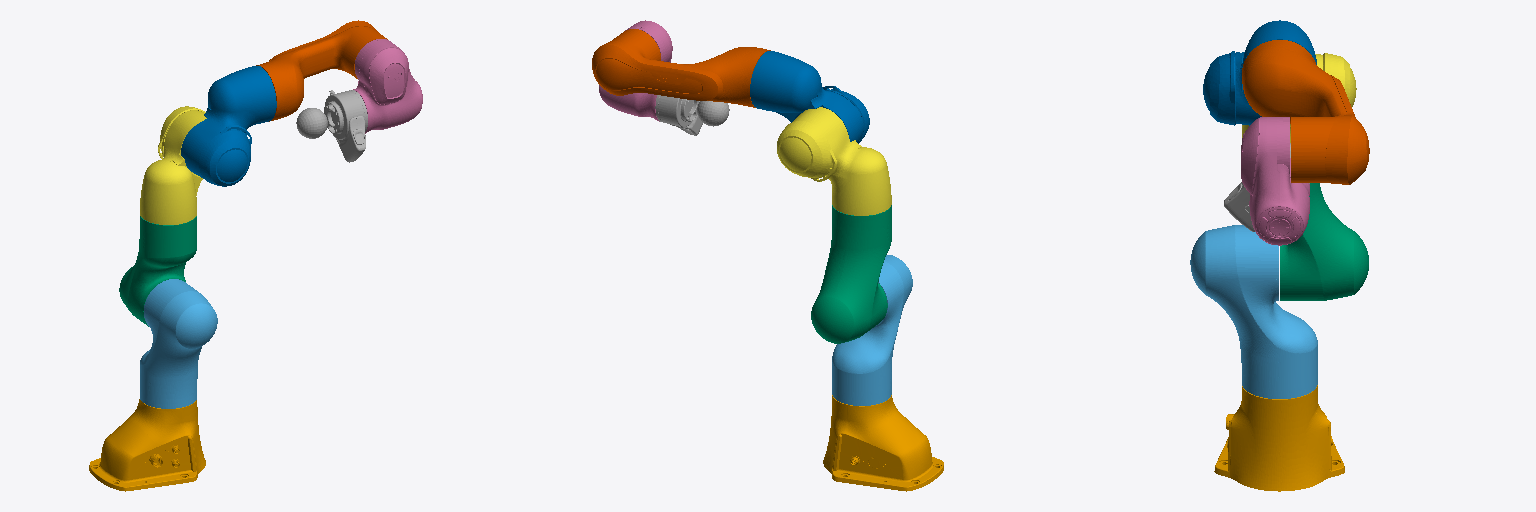
robot.urdf — panda:
<?xml version='1.0' encoding='utf-8'?>
<robot name="panda">

    <link name="link0">
      <inertial>
        <origin xyz="0 0 0.05" rpy="0 0 0" />
        <mass value="4" />
        <inertia ixx="0.4" iyy="0.4" izz="0.4" ixy="0" ixz="0" iyz="0" />
      </inertial>
      <visual>
        <geometry>
          <mesh filename="meshes/visual/link0.obj"/>
        </geometry>
      </visual>
<!--       <collision>
        <geometry>
          <mesh filename="meshes/collision/link0.obj"/>
        </geometry>
      </collision> -->
    </link>
    <link name="link1">
      <inertial>
        <origin xyz="0 0 -0.07" rpy="0 -0 0" />
        <mass value="4" />
        <inertia ixx="0.3" iyy="0.3" izz="0.3" ixy="0" ixz="0" iyz="0" />
      </inertial>
      <visual>
        <geometry>
          <mesh filename="meshes/visual/link1.obj"/>
        </geometry>
      </visual>
      <!-- <collision>
        <geometry>
          <mesh filename="meshes/collision/link1.obj"/>
        </geometry>
      </collision> -->
    </link>
    <link name="link2">
      <inertial>
        <origin xyz="0 -0.1 0" rpy="0 -0 0" />
        <mass value="3" />
        <inertia ixx="0.3" iyy="0.3" izz="0.3" ixy="0" ixz="0" iyz="0" />
      </inertial>
      <visual>
        <geometry>
          <mesh filename="meshes/visual/link2.obj"/>
        </geometry>
      </visual>
      <!-- <collision>
        <geometry>
          <mesh filename="meshes/collision/link2.obj"/>
        </geometry>
      </collision> -->
    </link>
    <link name="link3">
      <inertial>
        <origin xyz="0.04 0 -0.05" rpy="0 -0 0" />
        <mass value="3" />
        <inertia ixx="0.2" iyy="0.2" izz="0.2" ixy="0" ixz="0" iyz="0" />
      </inertial>
      <visual>
        <geometry>
          <mesh filename="meshes/visual/link3.obj"/>
        </geometry>
      </visual>
      <!-- <collision>
        <geometry>
          <mesh filename="meshes/collision/link3.obj"/>
        </geometry>
      </collision> -->
    </link>
    <link name="link4">
      <inertial>
        <origin xyz="-0.04 0.05 0" rpy="0 -0 0" />
        <mass value="3" />
        <inertia ixx="0.2" iyy="0.2" izz="0.2" ixy="0" ixz="0" iyz="0" />
      </inertial>
      <visual>
        <geometry>
          <mesh filename="meshes/visual/link4.obj"/>
        </geometry>
      </visual>
<!--       <collision>
        <geometry>
          <mesh filename="meshes/collision/link4.obj"/>
        </geometry>
      </collision> -->
    </link>
    <link name="link5">
      <inertial>
        <origin xyz="0 0 -0.15" rpy="0 -0 0" />
        <mass value="3" />
        <inertia ixx="0.2" iyy="0.2" izz="0.2" ixy="0" ixz="0" iyz="0" />
      </inertial>
      <visual>
        <geometry>
          <mesh filename="meshes/visual/link5.obj"/>
        </geometry>
      </visual>
<!--       <collision>
        <geometry>
          <mesh filename="meshes/collision/link5.obj"/>
        </geometry>
      </collision> -->
    </link>
    <link name="link6">
      <inertial>
        <origin xyz="0.06 0 0" rpy="0 -0 0" />
        <mass value="2" />
        <inertia ixx="0.1" iyy="0.1" izz="0.1" ixy="0" ixz="0" iyz="0" />
      </inertial>
      <visual>
        <geometry>
          <mesh filename="meshes/visual/link6.obj"/>
        </geometry>
      </visual>
      <!-- <collision>
        <geometry>
          <mesh filename="meshes/collision/link6.obj"/>
        </geometry>
      </collision> -->
    </link>
    <link name="link7">
      <inertial>
        <origin xyz="0 0 0.1" rpy="0 -0 0" />
        <mass value="1.0" />
        <inertia ixx="0.1" iyy="0.1" izz="0.25" ixy="0" ixz="0" iyz="0" />
      </inertial>
      <visual>
        <geometry>
          <mesh filename="meshes/visual/link7.obj"/>
        </geometry>
      </visual>
      <visual>
        <origin xyz="0 0 0.15" rpy="0 -0 0" />
        <geometry>
          <sphere radius="0.03"/>
        </geometry>
      </visual>
      <!-- <collision>
        <geometry>
          <mesh filename="meshes/collision/link7.obj"/>
        </geometry>
      </collision> -->
    </link>
    <joint name="joint1" type="revolute">
      <safety_controller k_position="100.0" k_velocity="40.0" soft_lower_limit="-2.8973" soft_upper_limit="2.8973"/>
      <origin rpy="0 0 0" xyz="0 0 0.333"/>
      <parent link="link0"/>
      <child link="link1"/>
      <axis xyz="0 0 1"/>
      <limit effort="87" lower="-2.8973" upper="2.8973" velocity="2.1750"/>
    </joint>
    <joint name="joint2" type="revolute">
      <safety_controller k_position="100.0" k_velocity="40.0" soft_lower_limit="-1.7628" soft_upper_limit="1.7628"/>
      <origin rpy="-1.57079632679 0 0" xyz="0 0 0"/>
      <parent link="link1"/>
      <child link="link2"/>
      <axis xyz="0 0 1"/>
      <calibration falling="-45.0" />
      <limit effort="87" lower="-1.7628" upper="1.7628" velocity="2.1750"/>
    </joint>
    <joint name="joint3" type="revolute">
      <safety_controller k_position="100.0" k_velocity="40.0" soft_lower_limit="-2.8973" soft_upper_limit="2.8973"/>
      <origin rpy="1.57079632679 0 0" xyz="0 -0.316 0"/>
      <parent link="link2"/>
      <child link="link3"/>
      <axis xyz="0 0 1"/>
      <limit effort="87" lower="-2.8973" upper="2.8973" velocity="2.1750"/>
    </joint>
    <joint name="joint4" type="revolute">
      <safety_controller k_position="100.0" k_velocity="40.0" soft_lower_limit="-3.0718" soft_upper_limit="-0.0698"/>
      <origin rpy="1.57079632679 0 0" xyz="0.0825 0 0"/>
      <parent link="link3"/>
      <child link="link4"/>
      <axis xyz="0 0 1"/>
      <calibration falling="-125.0" />
      <limit effort="87" lower="-3.0718" upper="-0.0698" velocity="2.1750"/>
    </joint>
    <joint name="joint5" type="revolute">
      <safety_controller k_position="100.0" k_velocity="40.0" soft_lower_limit="-2.8973" soft_upper_limit="2.8973"/>
      <origin rpy="-1.57079632679 0 0" xyz="-0.0825 0.384 0"/>
      <parent link="link4"/>
      <child link="link5"/>
      <axis xyz="0 0 1"/>
      <limit effort="12" lower="-2.8973" upper="2.8973" velocity="2.6100"/>
    </joint>
    <joint name="joint6" type="revolute">
      <safety_controller k_position="100.0" k_velocity="40.0" soft_lower_limit="-0.0175" soft_upper_limit="3.7525"/>
      <origin rpy="1.57079632679 0 0" xyz="0 0 0"/>
      <parent link="link5"/>
      <child link="link6"/>
      <axis xyz="0 0 1"/>
      <calibration falling="80.0" />
      <limit effort="12" lower="-0.0175" upper="3.7525" velocity="2.6100"/>
    </joint>
    <joint name="joint7" type="revolute">
      <safety_controller k_position="100.0" k_velocity="40.0" soft_lower_limit="-2.8973" soft_upper_limit="2.8973"/>
      <origin rpy="1.57079632679 0 0" xyz="0.088 0 0"/>
      <parent link="link6"/>
      <child link="link7"/>
      <axis xyz="0 0 1"/>
      <limit effort="12" lower="-2.8973" upper="2.8973" velocity="2.6100"/>
    </joint>
</robot>

--- Facts derived from the render (not from the file) ---
3 views of the same robot in one strip: view 1: azimuth 30°, elevation 25°; view 2: azimuth 150°, elevation 25°; view 3: azimuth 270°, elevation 25° (orthographic).
Model panda with 8 links and 7 joints (7 revolute), rooted at link0, posed all joints at 0 but 1 set to mid-range because 0 is outside their limits (joint4 = -1.57).
Visible links, largest first — view 1: link0, link1, link4, link3, link5, link6, link2, link7; view 2: link0, link5, link2, link3, link1, link4, link7, link6; view 3: link1, link5, link0, link2, link6, link4, link3, link7.
Boxes of the visible links, left/top/right/bottom form: link0: left=89, top=399, right=205, bottom=491; link1: left=140, top=279, right=217, bottom=408; link4: left=181, top=66, right=276, bottom=186; link3: left=140, top=106, right=206, bottom=224; link5: left=256, top=20, right=387, bottom=121; link6: left=353, top=39, right=422, bottom=133; link2: left=119, top=216, right=196, bottom=326; link7: left=296, top=90, right=367, bottom=162; link0: left=823, top=395, right=943, bottom=491; link5: left=592, top=29, right=770, bottom=107; link2: left=811, top=205, right=891, bottom=343; link3: left=777, top=107, right=891, bottom=215; link1: left=832, top=255, right=912, bottom=405; link4: left=750, top=51, right=869, bottom=143; link7: left=655, top=95, right=729, bottom=135; link6: left=599, top=20, right=672, bottom=121; link1: left=1190, top=225, right=1317, bottom=398; link5: left=1242, top=40, right=1369, bottom=184; link0: left=1214, top=385, right=1344, bottom=491; link2: left=1280, top=183, right=1368, bottom=300; link6: left=1241, top=117, right=1309, bottom=245; link4: left=1203, top=20, right=1316, bottom=125; link3: left=1242, top=53, right=1356, bottom=142; link7: left=1224, top=143, right=1309, bottom=231.
Bounding box of the posed robot: 0.7022 × 0.2593 × 0.7865 m (x, y, z).
Meshes: 8 distinct files referenced, 8 mesh visuals loaded (8 OBJ).
